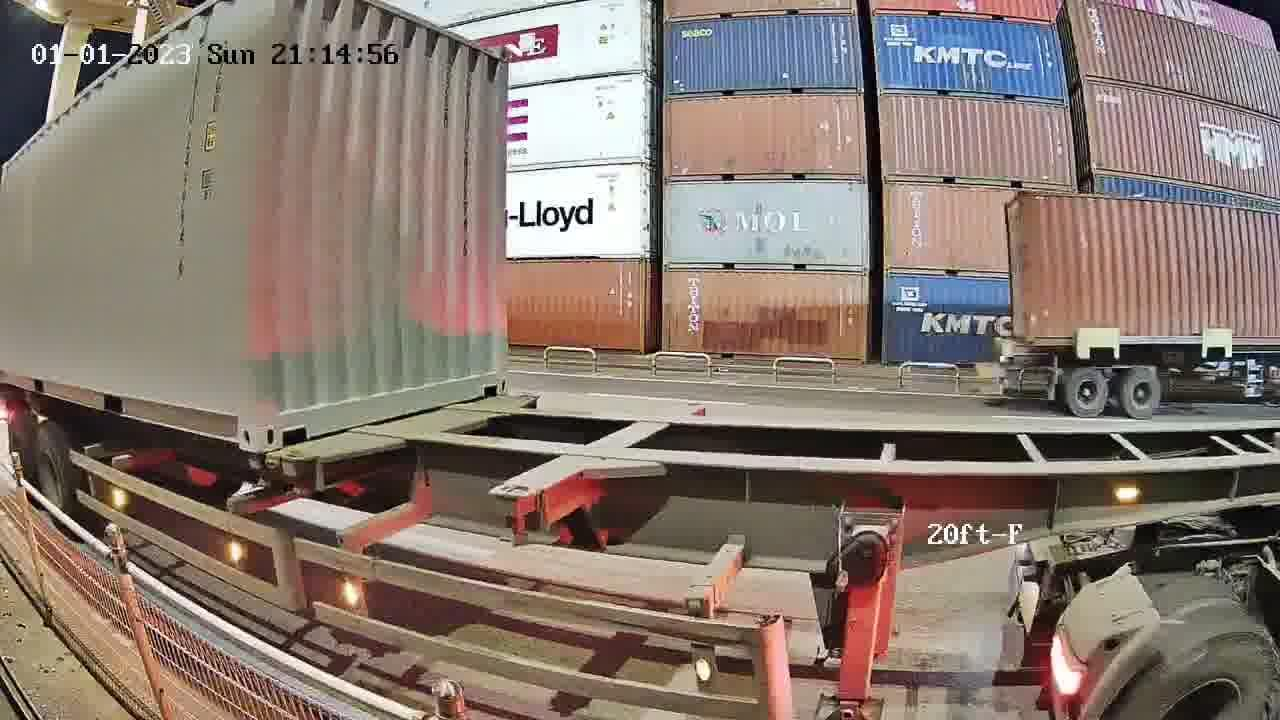Cone: (240, 451, 269, 474)
Hole_L: (259, 394, 306, 452)
Hole_R: (216, 395, 258, 452), (470, 353, 510, 400)
Tire: (1117, 633, 1278, 719), (33, 427, 70, 508)
